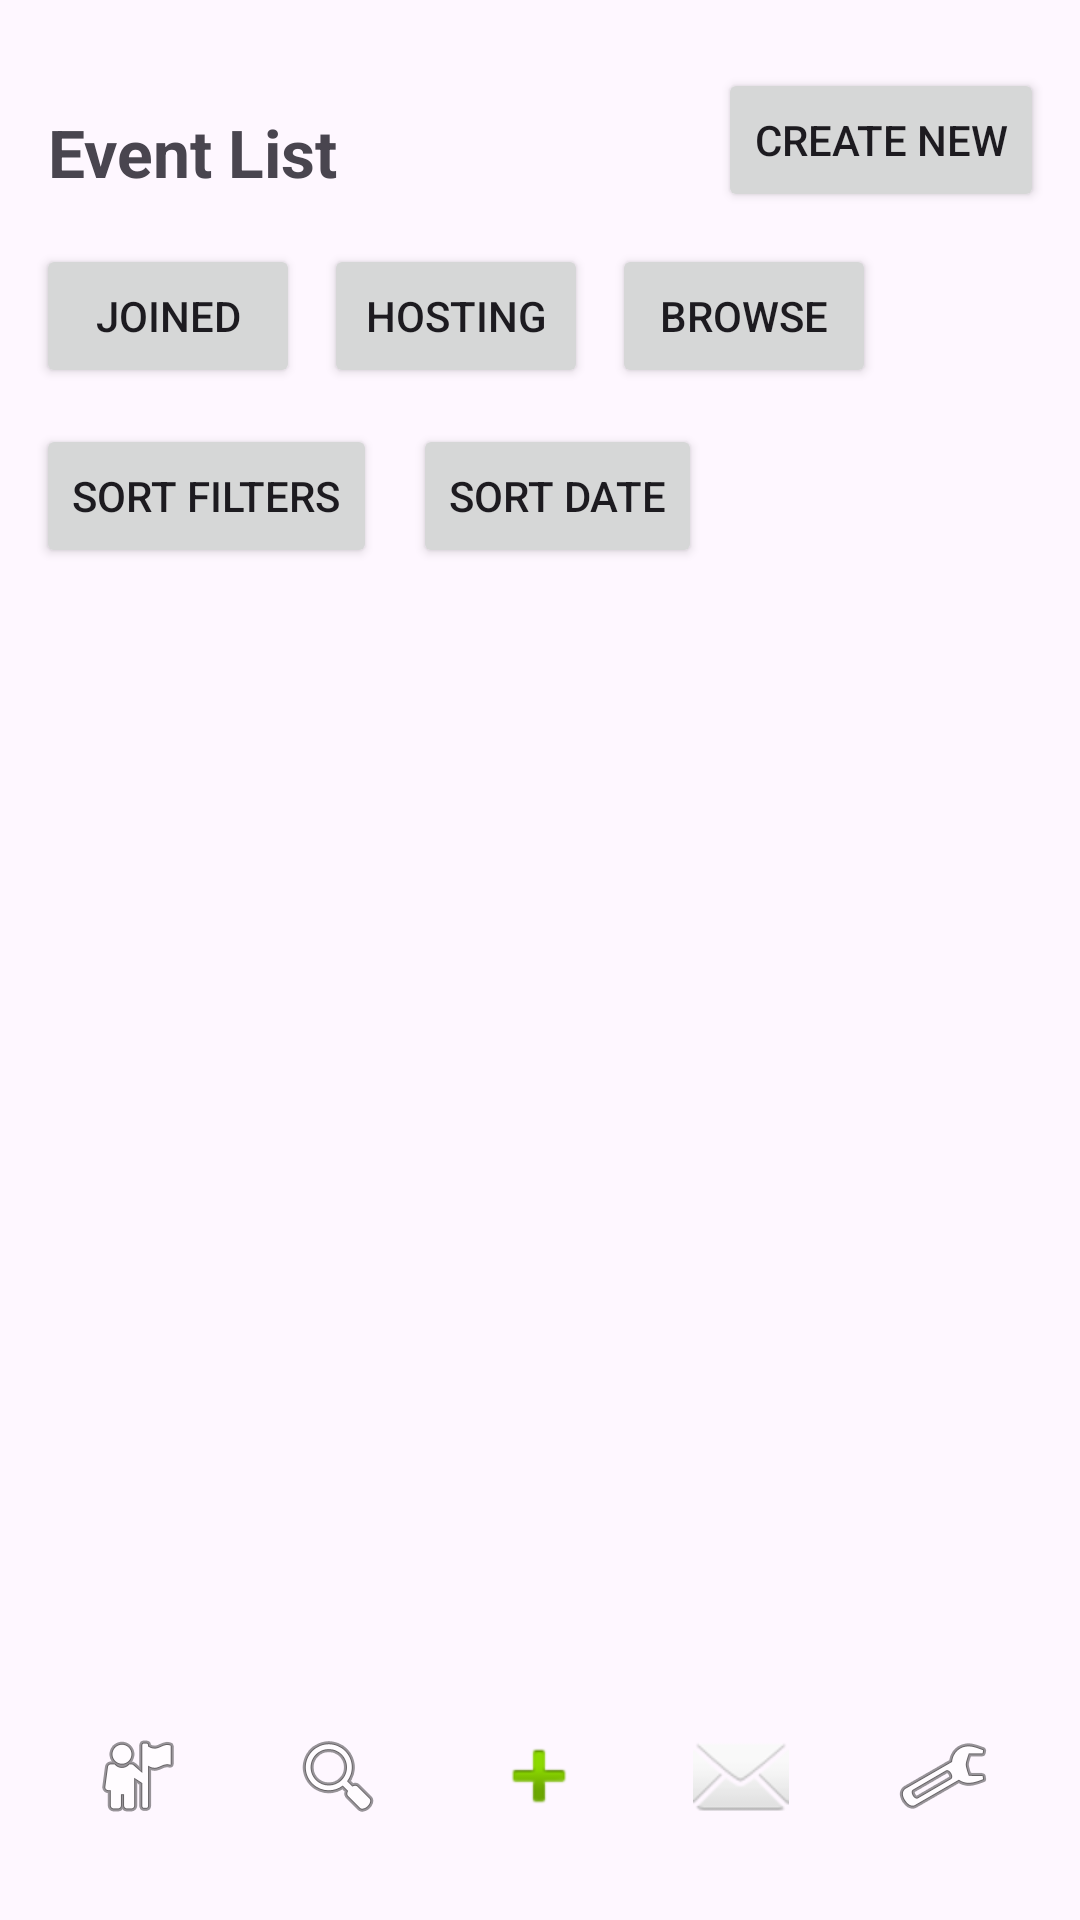

Screen size 1080*1920. Icon name, then its box in pixels as [x1,y1,x2,y2]:
Add: [512,1749,566,1803]
Search: [302,1741,374,1812]
